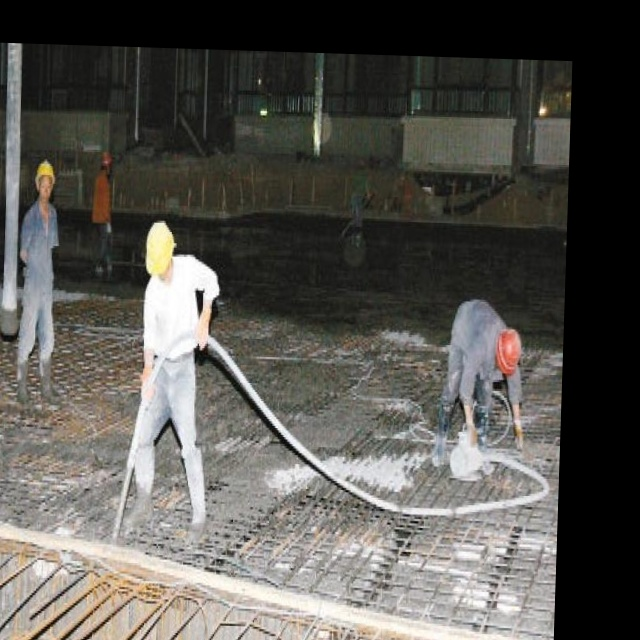Con_Casco: (142, 222, 174, 280), (33, 160, 56, 196)
